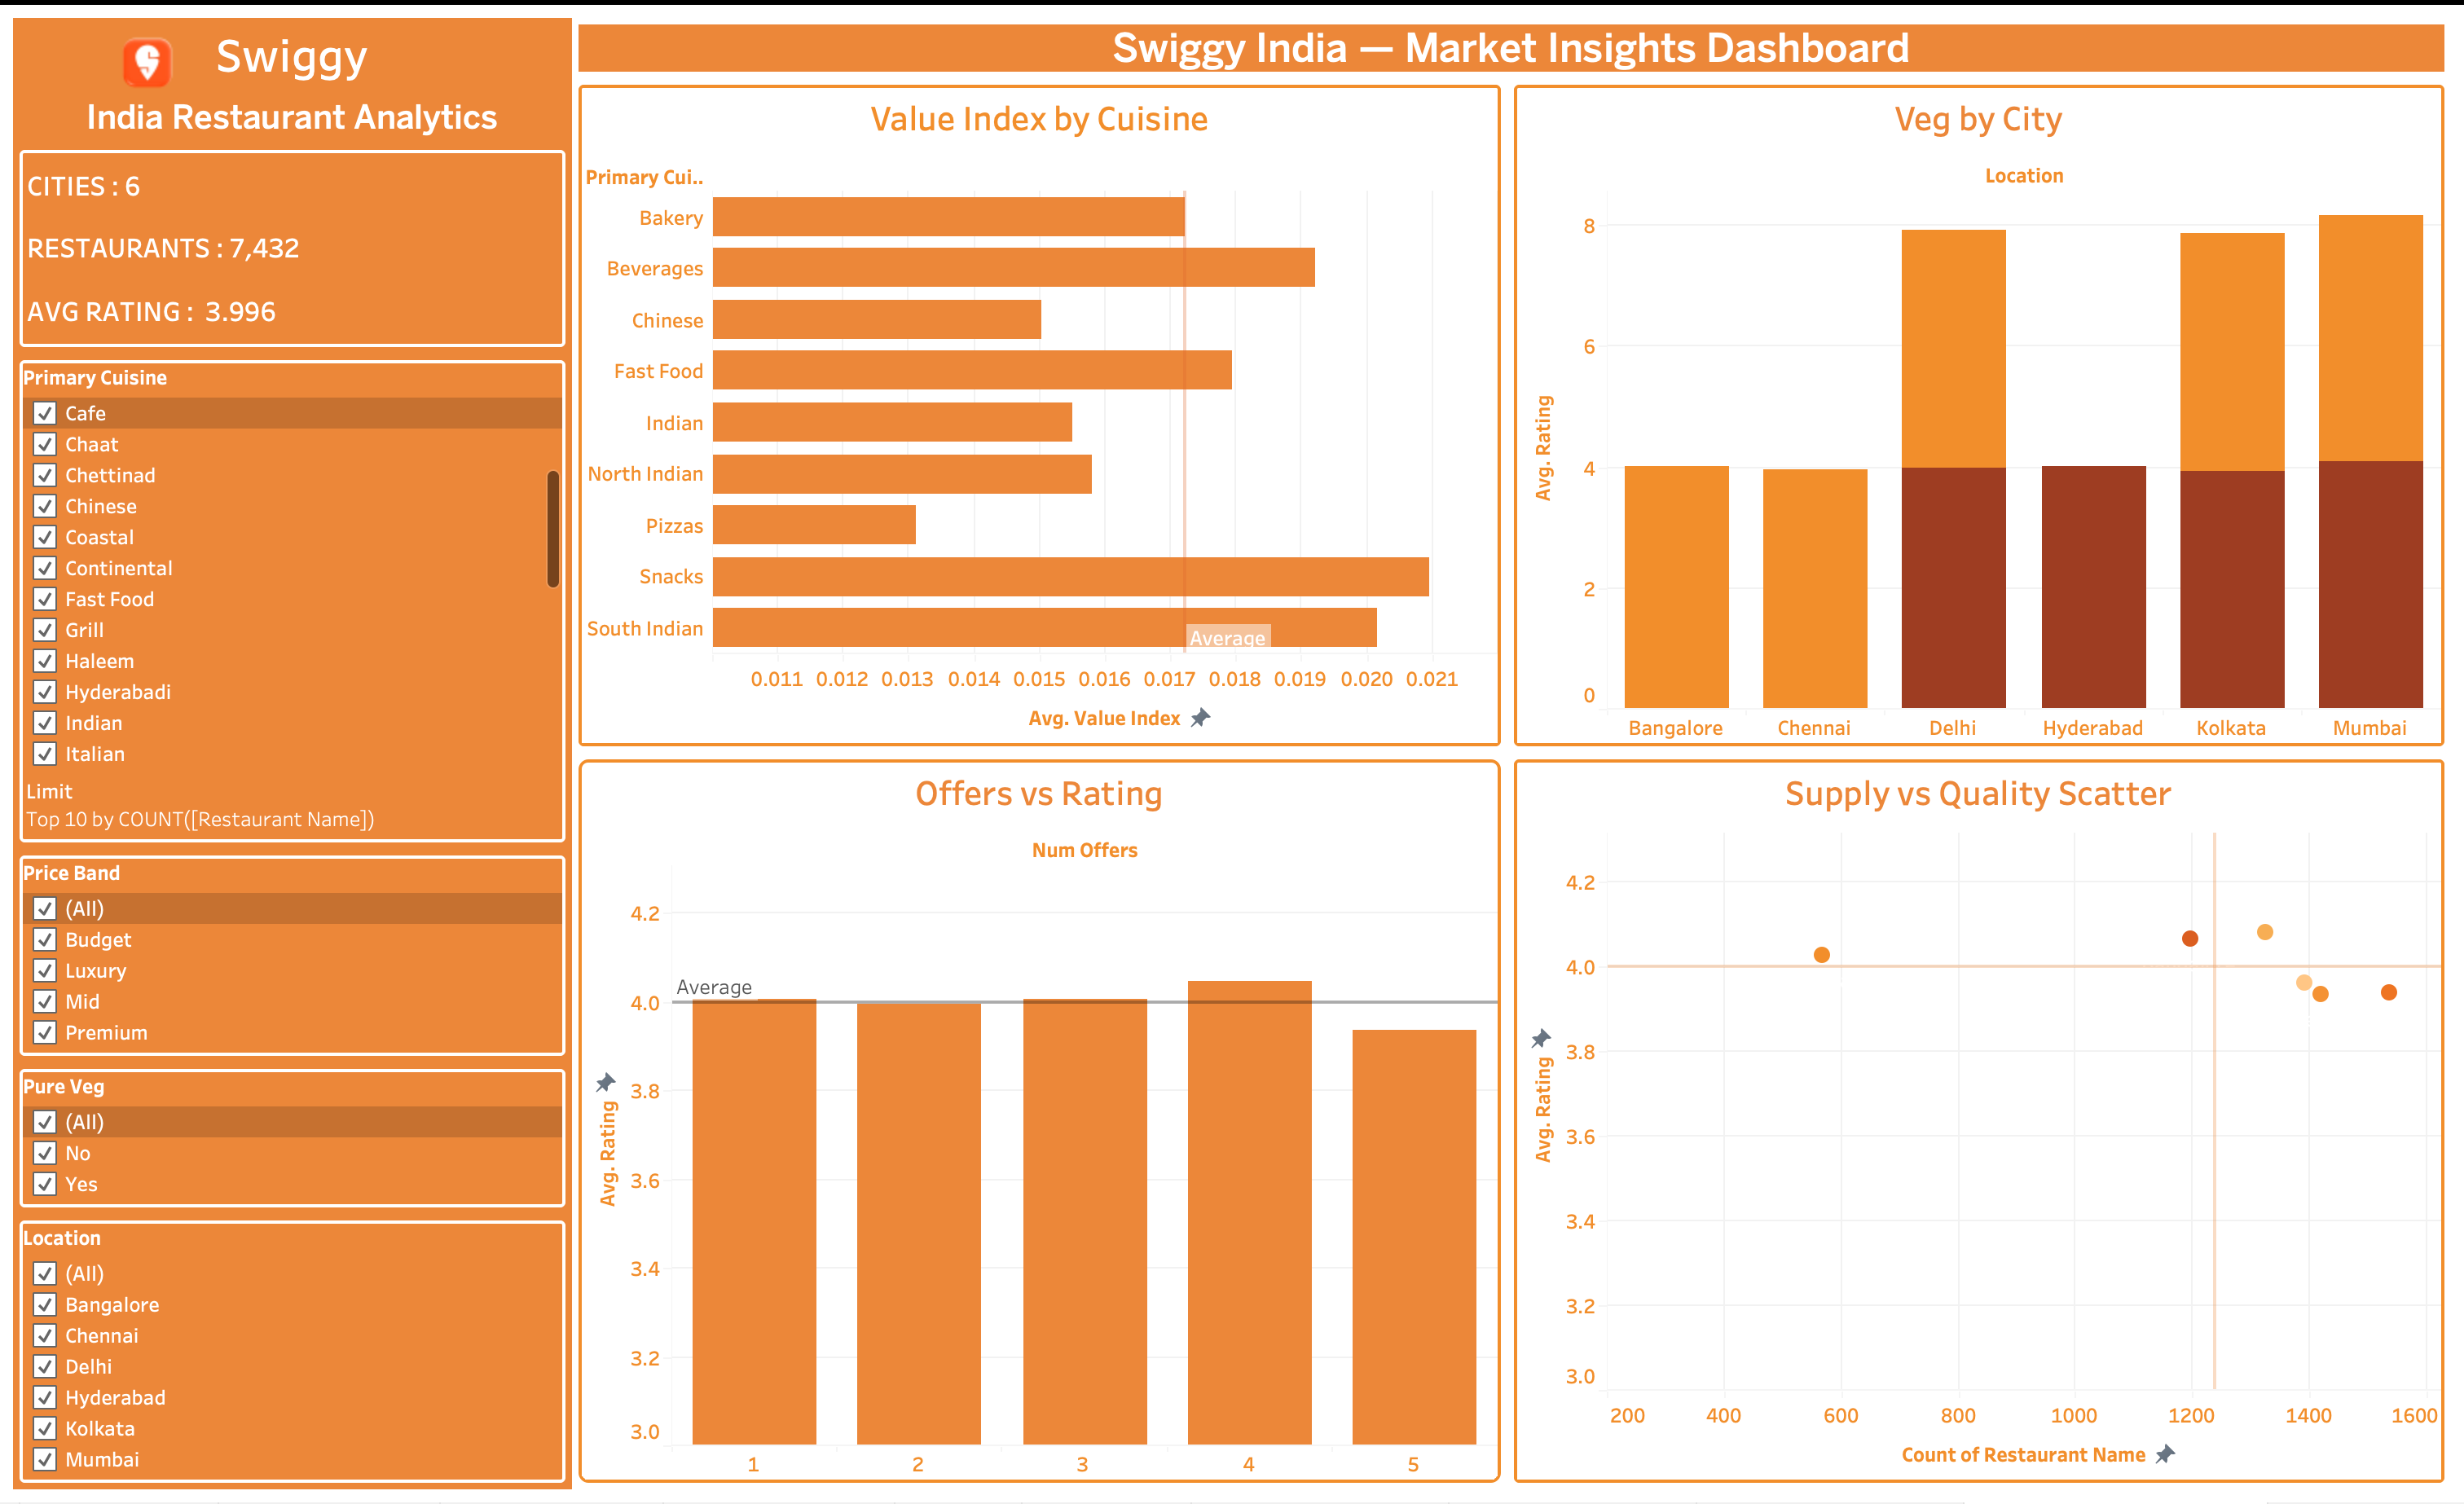

Layout of this report page (visuals, bound fields, positions):
{"tool":"tableau","page":{"name":"Market Insights Dashboard","canvas":[1000,1000],"units":"permille","ordinal":1},"visuals":[{"type":"text","box":[5.4,9.3,226.7,52.5]},{"type":"title","box":[232,9.3,762.6,43.2]},{"type":"image","param":"Image/swiggy-transparent-icon-free-png.png","box":[43.8,11.7,39.1,53.7]},{"type":"worksheet","title":"Value Index by Cuisine","mark":"Bar","rows":["primary_cuisine"],"cols":["Calculation_1582192694800386"],"box":[232,52.5,379.7,447.5]},{"type":"worksheet","title":"Veg by City","mark":"Automatic","rows":["rating"],"cols":["location"],"box":[611.7,52.5,382.9,447.5]},{"type":"text","box":[5.4,61.8,226.7,37.3]},{"type":"text","box":[5.4,99.2,226.7,150.5]},{"type":"filter","title":"Value Index by Cuisine","param":"[federated.0db9a551ju78yk18ma47h00qbviu].[none:primary_cuisine:nk]","box":[5.4,249.7,226.7,282.4]},{"type":"worksheet","title":"Offers vs Rating","mark":"Bar","rows":["rating"],"cols":["num_offers"],"box":[232,500,379.6,490.7]},{"type":"worksheet","title":"Supply vs Quality Scatter","mark":"Circle","rows":["rating"],"cols":["restaurant_name"],"box":[611.7,500,383,490.7]},{"type":"filter","title":"Value Index by Cuisine","param":"[federated.0db9a551ju78yk18ma47h00qbviu].[none:Calculation_1582191466835969:nk]","box":[5.4,532.1,226.7,152.8]},{"type":"filter","title":"Value Index by Cuisine","param":"[federated.0db9a551ju78yk18ma47h00qbviu].[none:pure_veg:nk]","box":[5.4,685,226.7,108.5]},{"type":"filter","title":"Value Index by Cuisine","param":"[federated.0db9a551ju78yk18ma47h00qbviu].[none:location:nk]","box":[5.4,793.5,226.7,197.2]}]}

Visuals, with their boxes on the dashboard's canvas, which has no fixed pixel size, in thousandths of its width and height (x1, y1, x2, y2). These are canvas units, not pixel positions in the 2464x1504 screenshot, which may show the page scaled, cropped or inside an application window:
text: 5 9 232 62
title: 232 9 995 52
image: 44 12 83 65
"Value Index by Cuisine" worksheet (Bar marks): 232 52 612 500
"Veg by City" worksheet: 612 52 995 500
text: 5 62 232 99
text: 5 99 232 250
"Value Index by Cuisine" filter: 5 250 232 532
"Offers vs Rating" worksheet (Bar marks): 232 500 612 991
"Supply vs Quality Scatter" worksheet (Circle marks): 612 500 995 991
"Value Index by Cuisine" filter: 5 532 232 685
"Value Index by Cuisine" filter: 5 685 232 794
"Value Index by Cuisine" filter: 5 794 232 991
